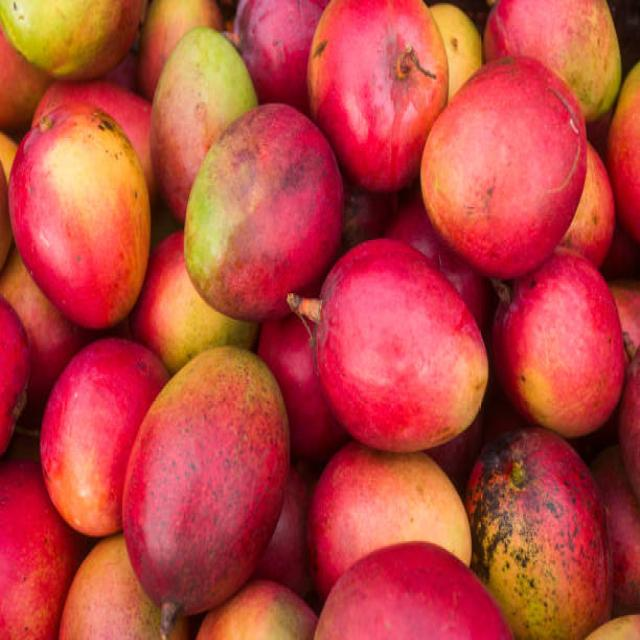mango: (122, 347, 290, 637), (288, 238, 488, 451), (421, 58, 586, 278), (184, 105, 342, 320), (10, 103, 150, 328), (466, 429, 612, 639), (308, 0, 448, 191), (309, 442, 471, 599), (40, 339, 169, 535), (492, 249, 624, 437), (315, 542, 512, 639), (131, 231, 259, 374), (484, 0, 621, 121), (0, 463, 85, 638), (59, 534, 160, 640)
